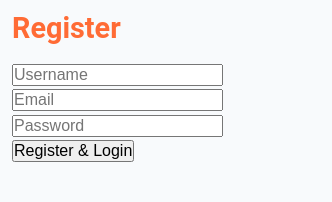
Test case: AuthForm › handles slow fetch and shows error on registration failure
This screenshot has width=332, height=202.
Step 1. Type "newuser" into the field with placeholder "Username" → (118, 74), box x1=12 y1=64 x2=223 y2=86
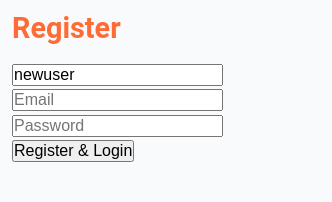
Step 2. Type "taken@example.com" into the field with placeholder "Email" → (118, 100), box x1=12 y1=89 x2=223 y2=111
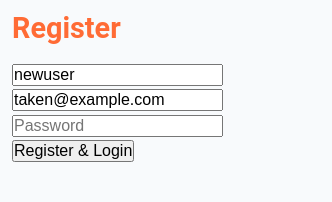
Step 3. Type "pass" into the password field with placeholder "Password" → (118, 126), box x1=12 y1=115 x2=223 y2=137
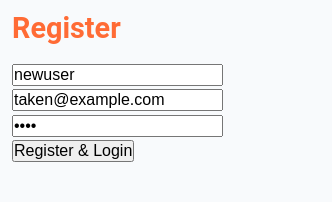
Step 4. Click the button "Register & Login" → click(73, 151), box x1=12 y1=140 x2=134 y2=162
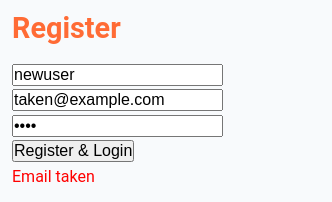
Result: the text "Email taken" is shown at x1=12 y1=167 x2=95 y2=186
